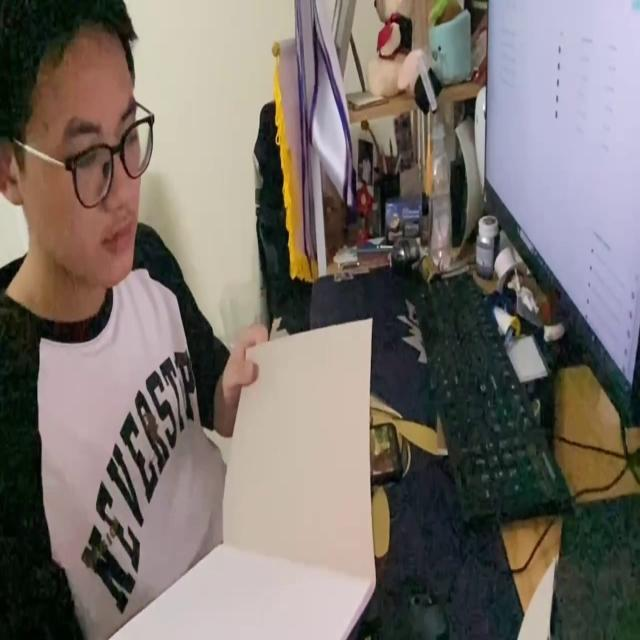book: (103, 313, 381, 640)
laptop: (479, 0, 640, 426)
student: (0, 0, 268, 640)
